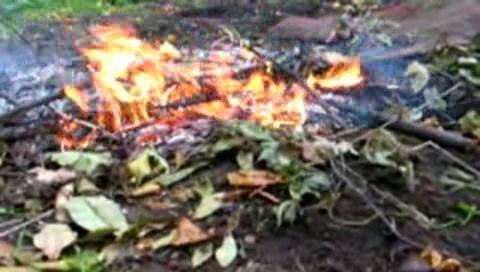fire: (30, 1, 394, 167)
